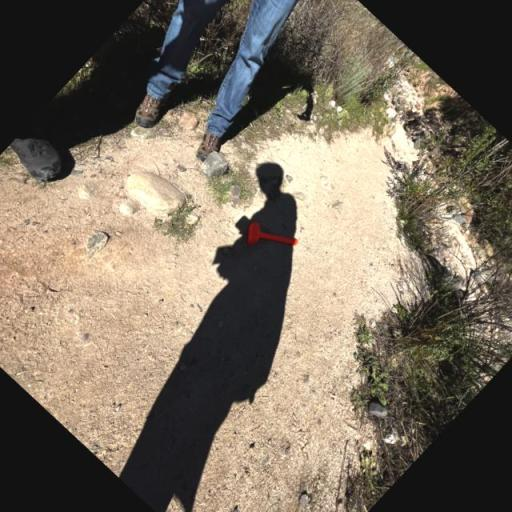mallet: (240, 209, 300, 269)
